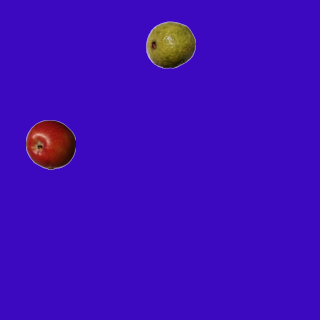Apple Braeburn: (25, 119, 75, 169)
Guava: (145, 19, 195, 69)
